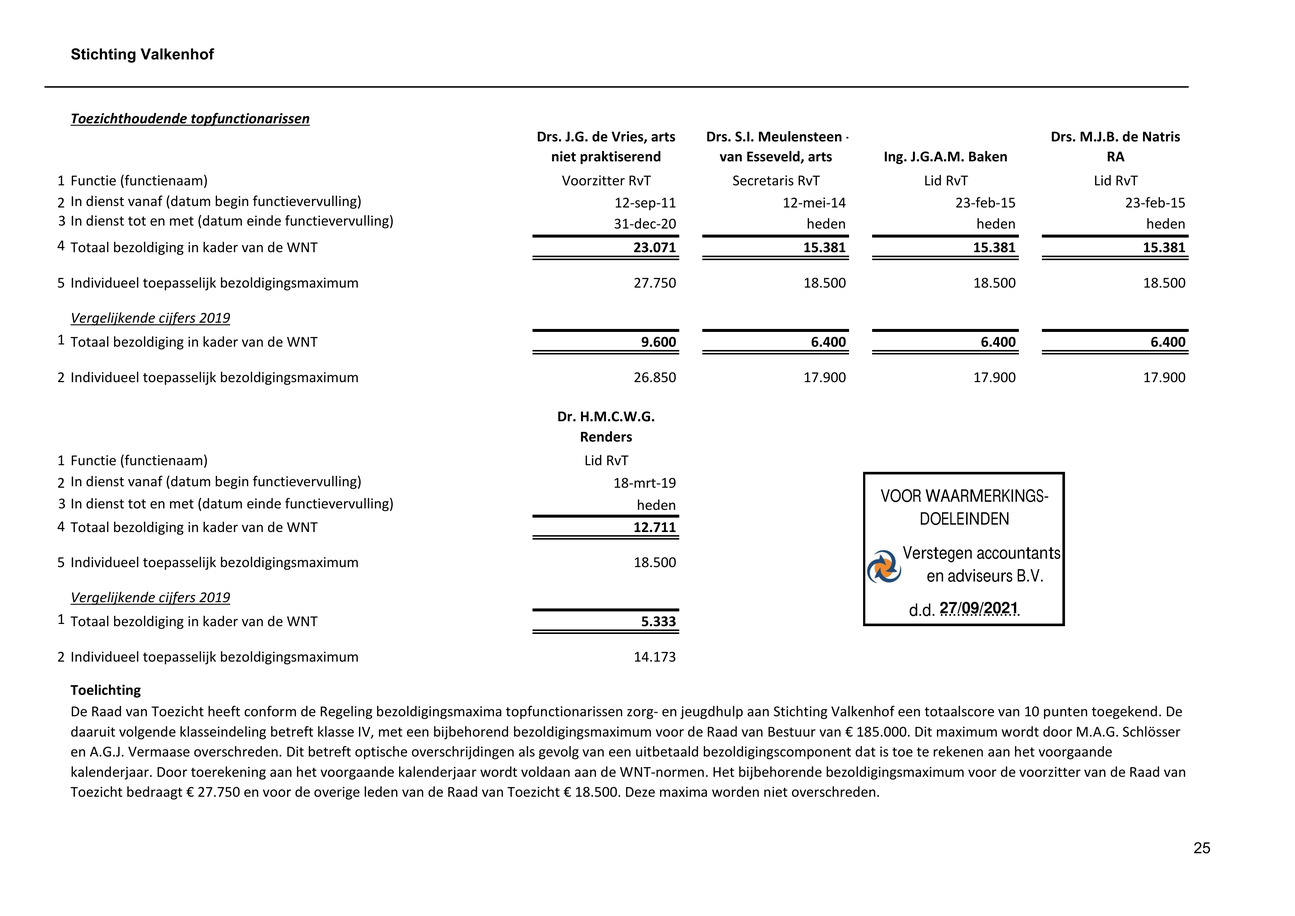coulmn: (49, 109, 405, 400), (56, 408, 406, 673), (694, 123, 858, 395), (1029, 124, 1188, 404), (524, 126, 687, 392), (866, 126, 1021, 398), (529, 408, 688, 670)
